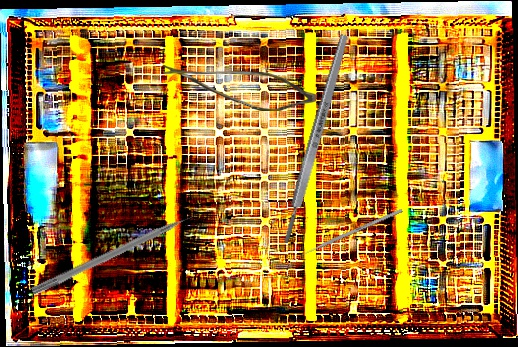Micro Scissor: (160, 65, 316, 111)
Pusher: (30, 207, 206, 298), (294, 208, 403, 260)
Scalpel Handle: (279, 33, 352, 245)
